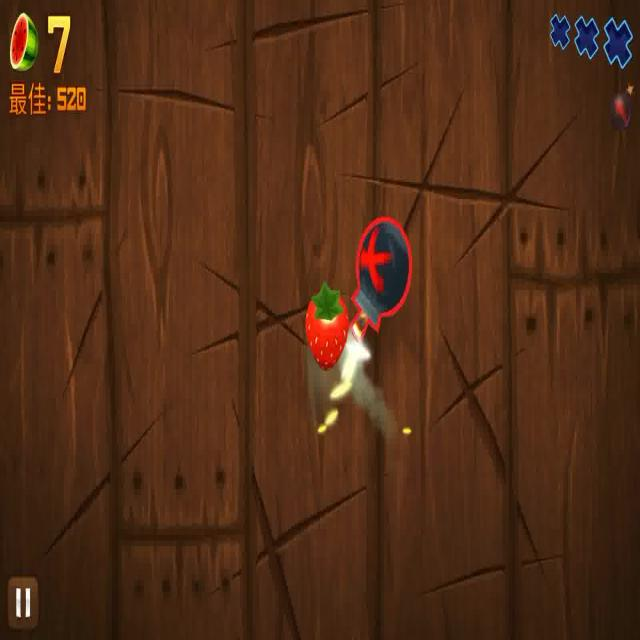bomb: (349, 207, 416, 356)
fruit: (303, 281, 349, 370)
